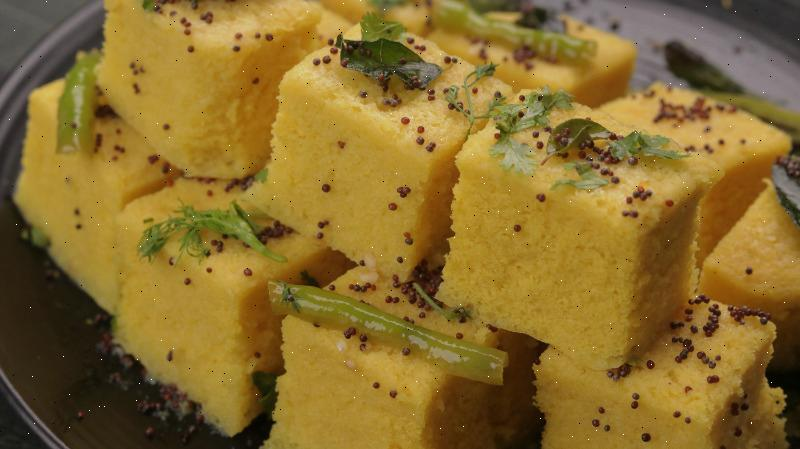yellow dhokla: (258, 1, 701, 375)
